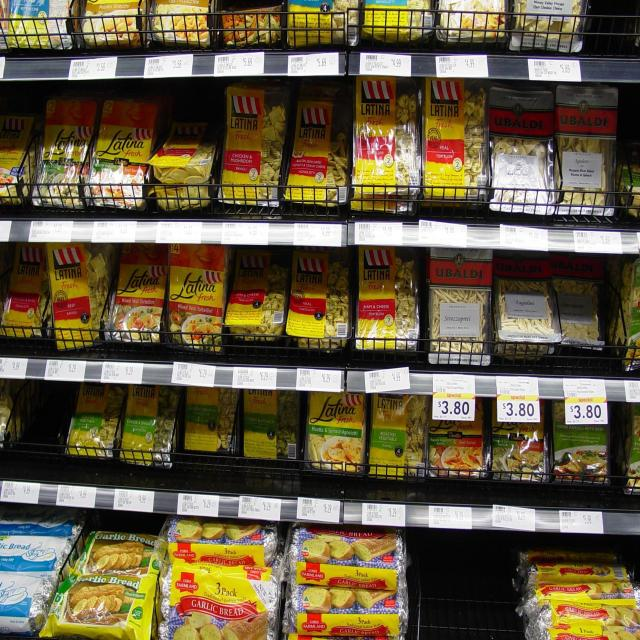void: (411, 540, 513, 640), (22, 390, 62, 473)
